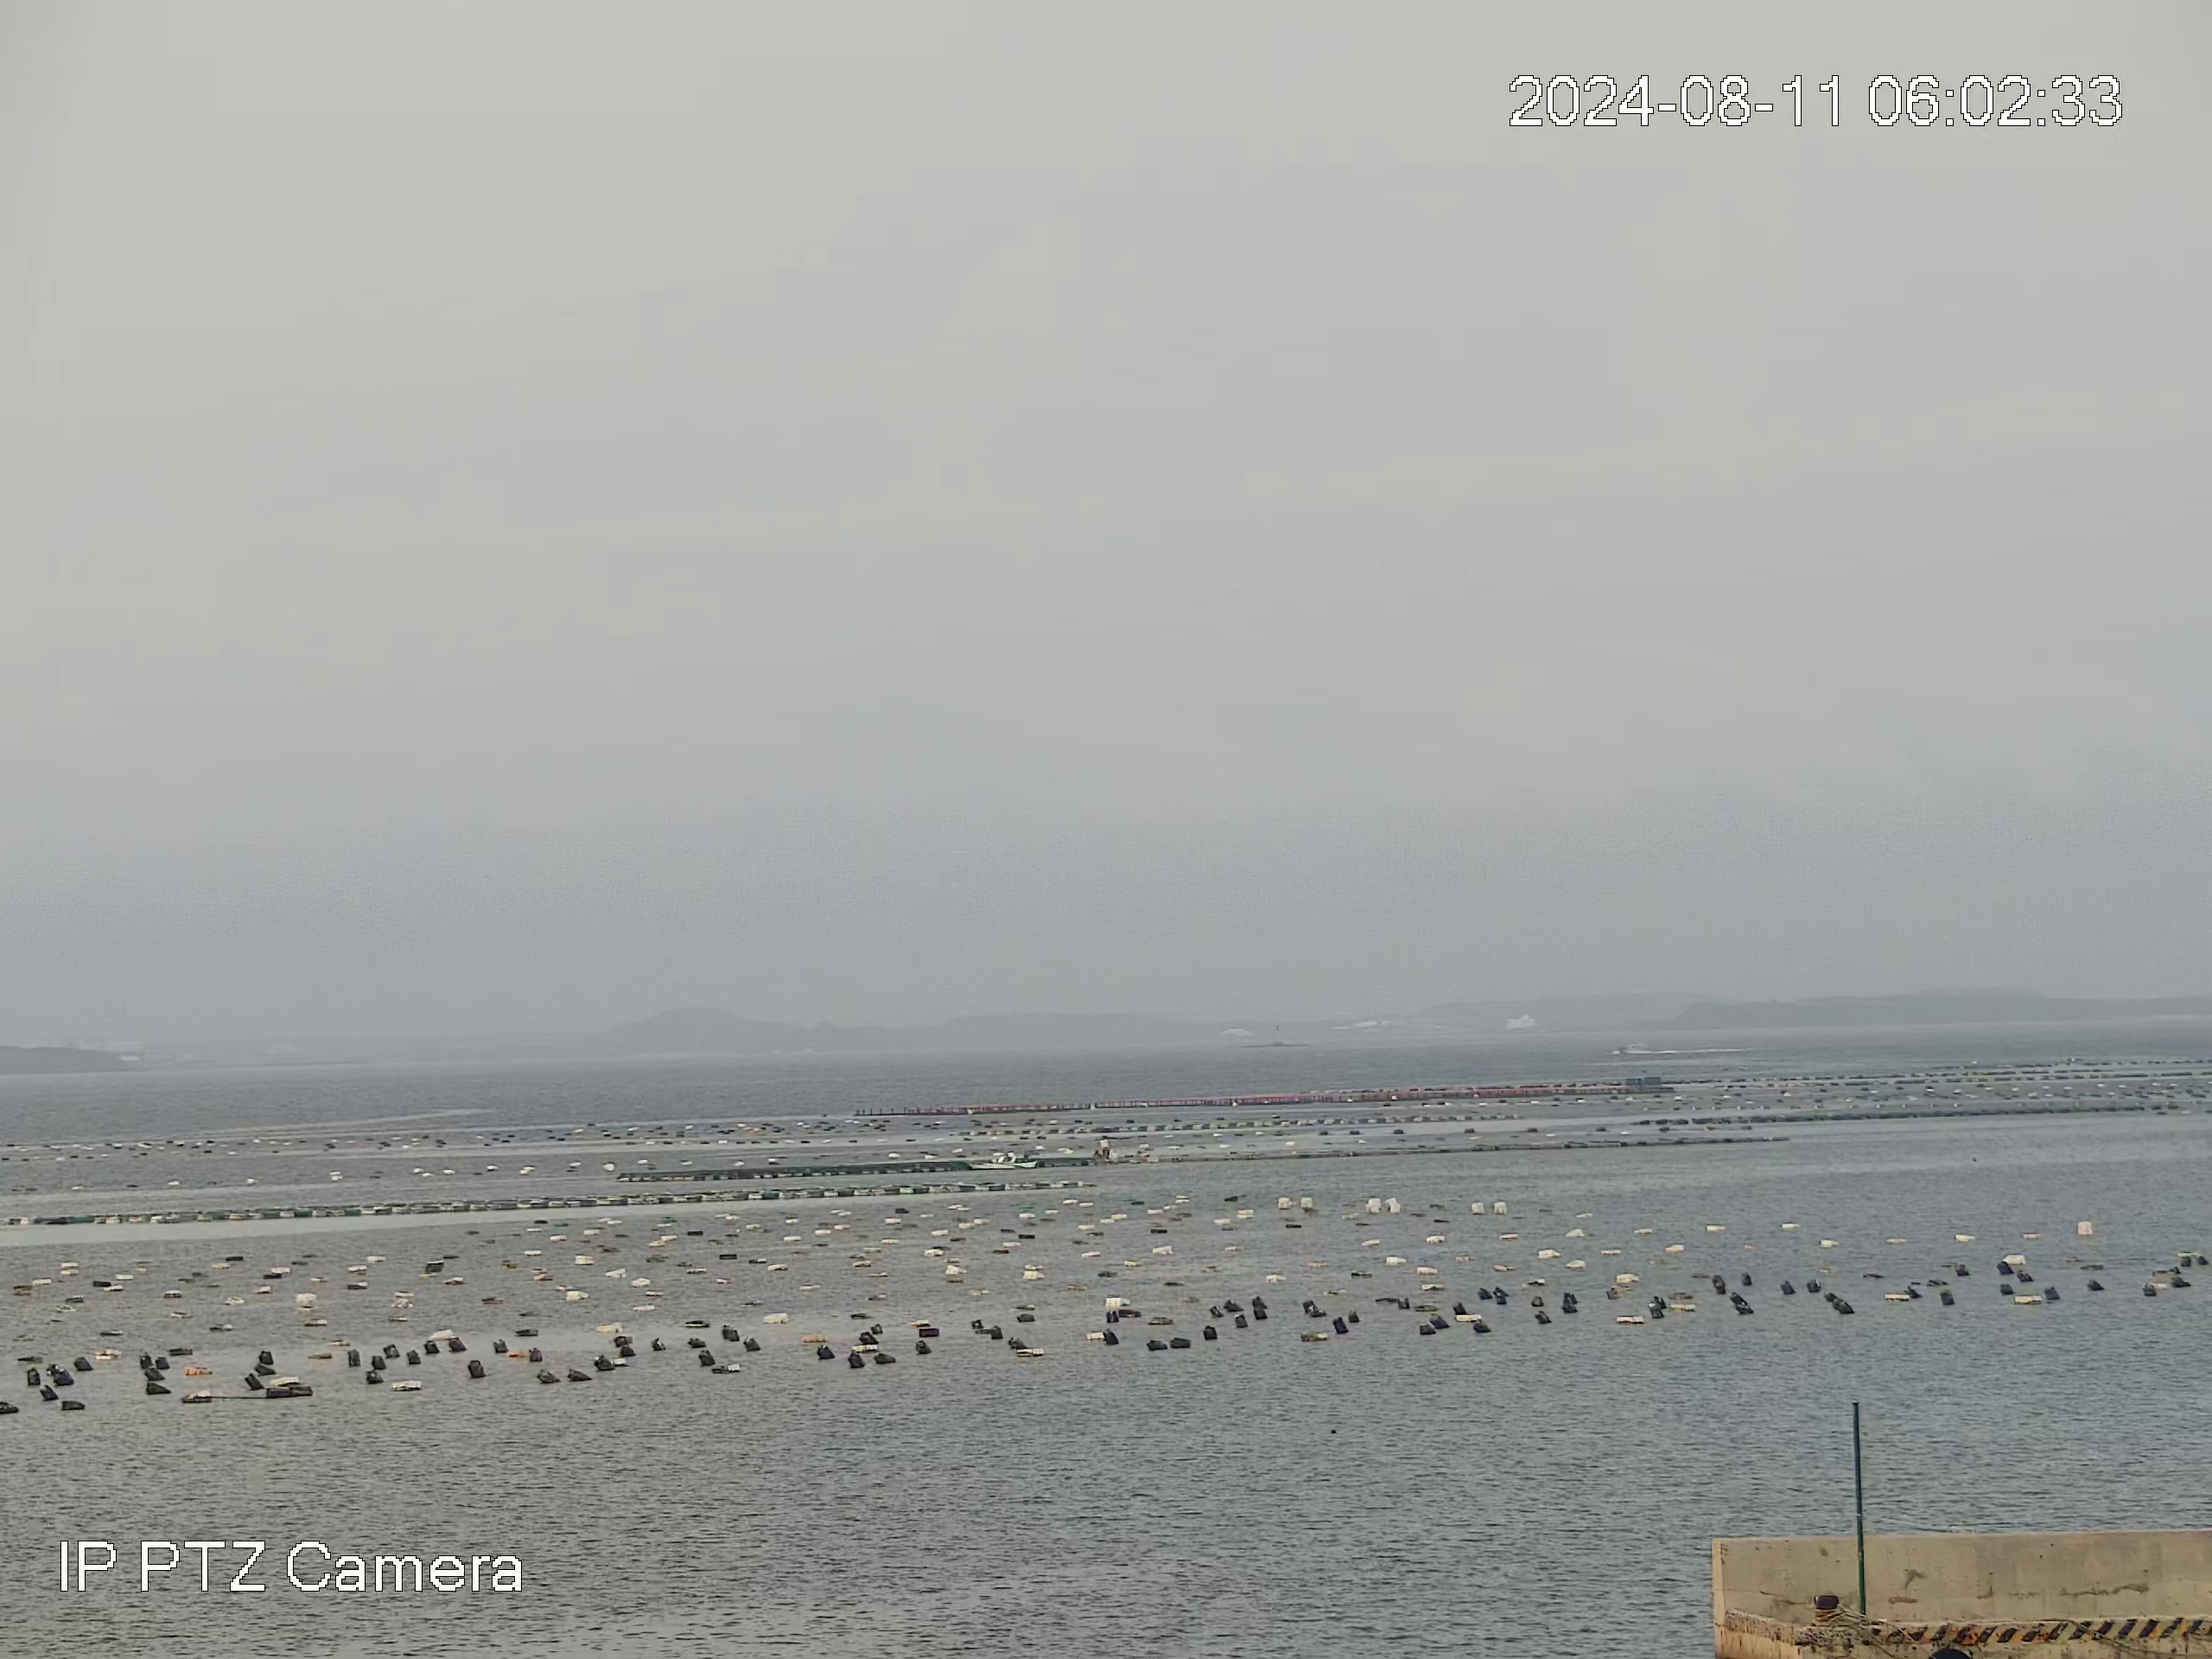boat: (962, 1149, 1040, 1172)
